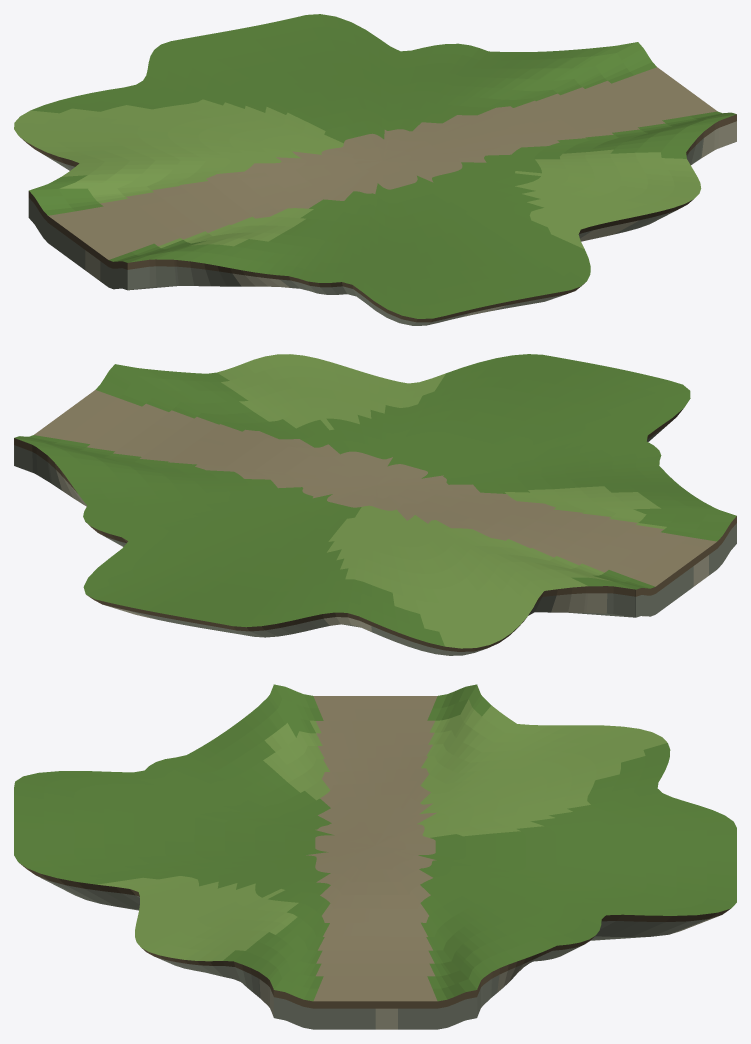
The model's file is mossbound_ruins_structure.fbx.
3 renders of one model, top to bottom at view 1: azimuth 30°, elevation 25°; view 2: azimuth 150°, elevation 25°; view 3: azimuth 270°, elevation 25°, orthographic. The views are drawn at different scales.
Parts seen in each view (by area): view 1: chunk_mossbound_ruins; view 2: chunk_mossbound_ruins; view 3: chunk_mossbound_ruins.
Boxes of the visible parts, box(x1,y1,x2,y2) form: chunk_mossbound_ruins: box(14, 14, 736, 325); chunk_mossbound_ruins: box(14, 354, 736, 655); chunk_mossbound_ruins: box(14, 684, 736, 1029).
Size of the model in its own units: 256 by 39.5 by 256.
